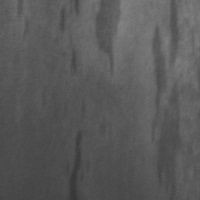inclusion: (150, 1, 194, 197), (94, 0, 125, 80), (63, 126, 91, 199), (57, 1, 84, 40), (11, 1, 33, 40), (66, 30, 83, 78)
